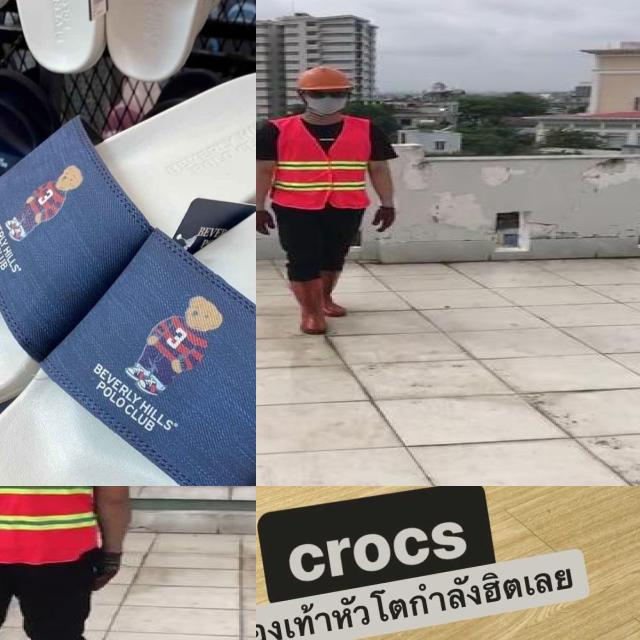Sandals: (0, 50, 256, 486)
boots: (288, 280, 328, 335), (318, 268, 350, 317)
face_mask: (303, 86, 349, 113)
glasses: (304, 88, 352, 100)
hand_glove: (93, 548, 120, 594), (373, 207, 398, 235), (256, 211, 280, 235)
head_helmet: (291, 64, 357, 92)
person: (256, 62, 407, 338), (0, 486, 142, 640)
vest: (268, 117, 369, 211), (0, 486, 105, 564)
